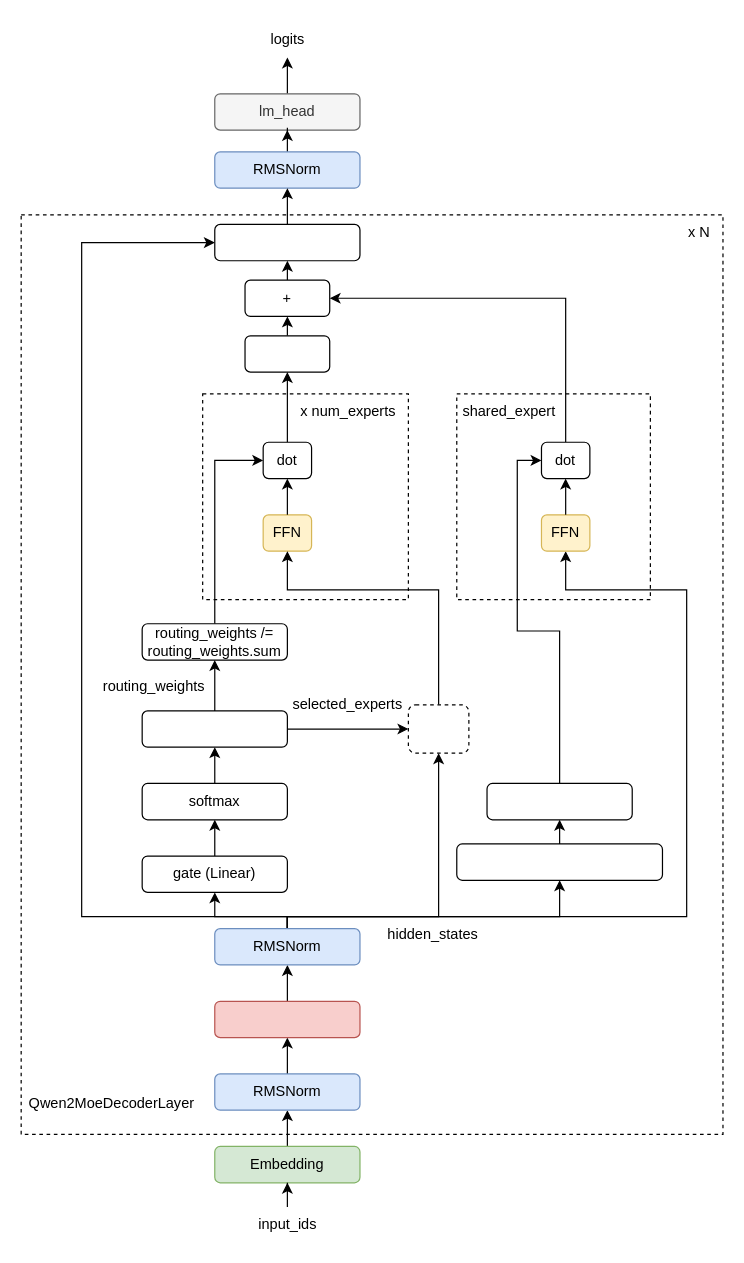
This 744x1263 diagram has some shape labels left out. The shapes that lost their labels are listed below. From the top down, each one's centre as x and y in pixels, then its label:
At (287,242): "Add Residual".
At (287,353): "index_add_".
At (214,728): "topK".
At (438,728): "choose experts".
At (559,801): "sigmoid".
At (559,861): "shared_expert_gate (Linear)".
At (287,1019): "Qwen2MoeAttention".
